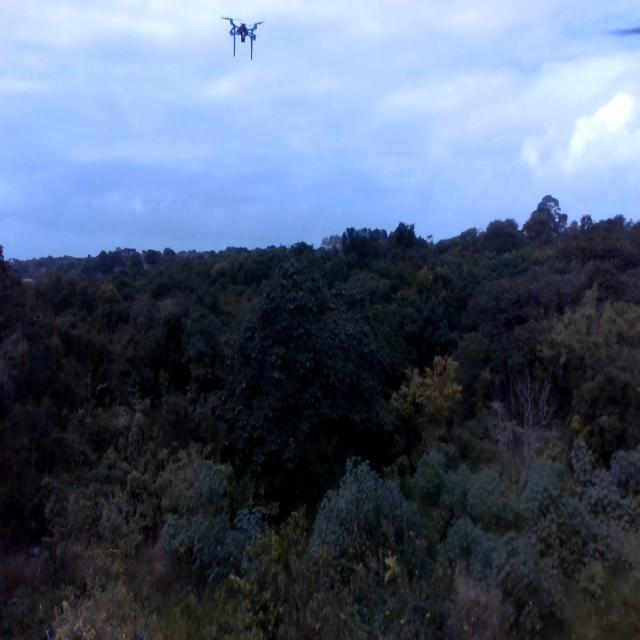-uav-: (221, 9, 264, 70)
